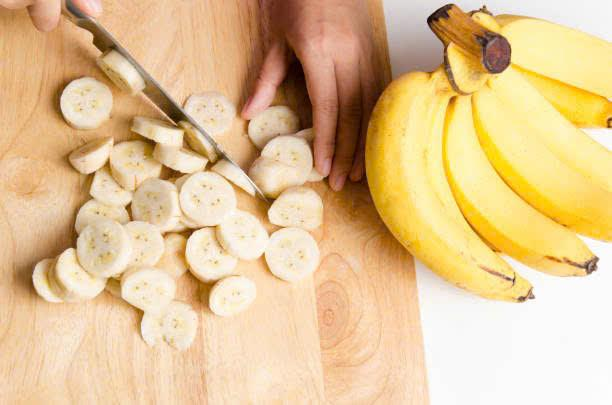banana: (385, 54, 612, 281), (113, 145, 223, 232), (74, 218, 137, 290), (213, 211, 270, 267), (63, 72, 119, 123)
